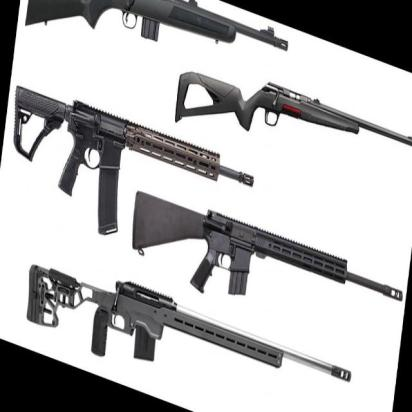Gun: (15, 234, 355, 412), (125, 178, 408, 363), (167, 43, 412, 208), (0, 94, 248, 246), (26, 2, 293, 87)
